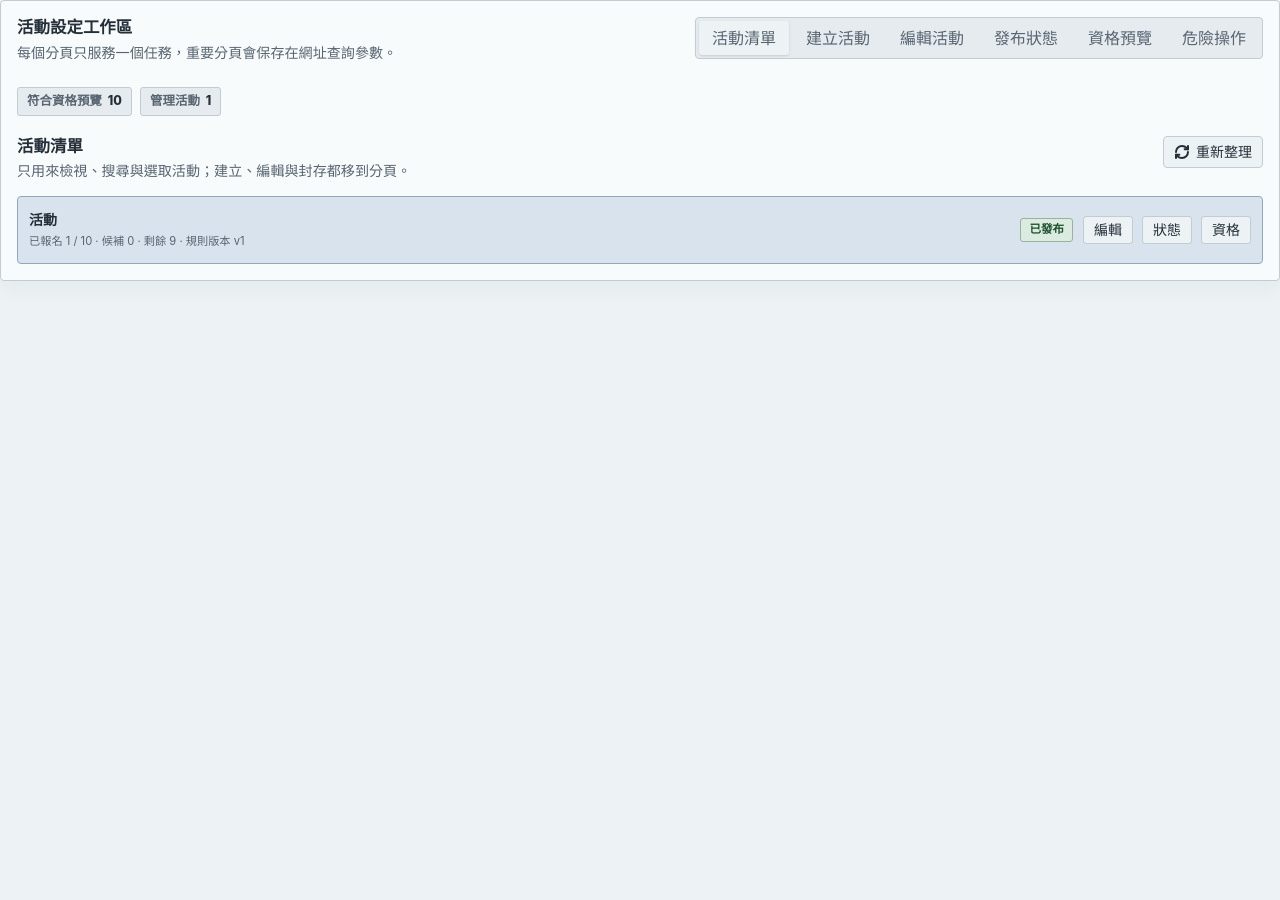
Test: AdminEventsPage CRUD tabs › updates the quick-setup template dropdown label after selection
The width and height of the screenshot is (1280, 900).
Click the tab "建立活動": coordinates (838, 38) [793,21,883,55]
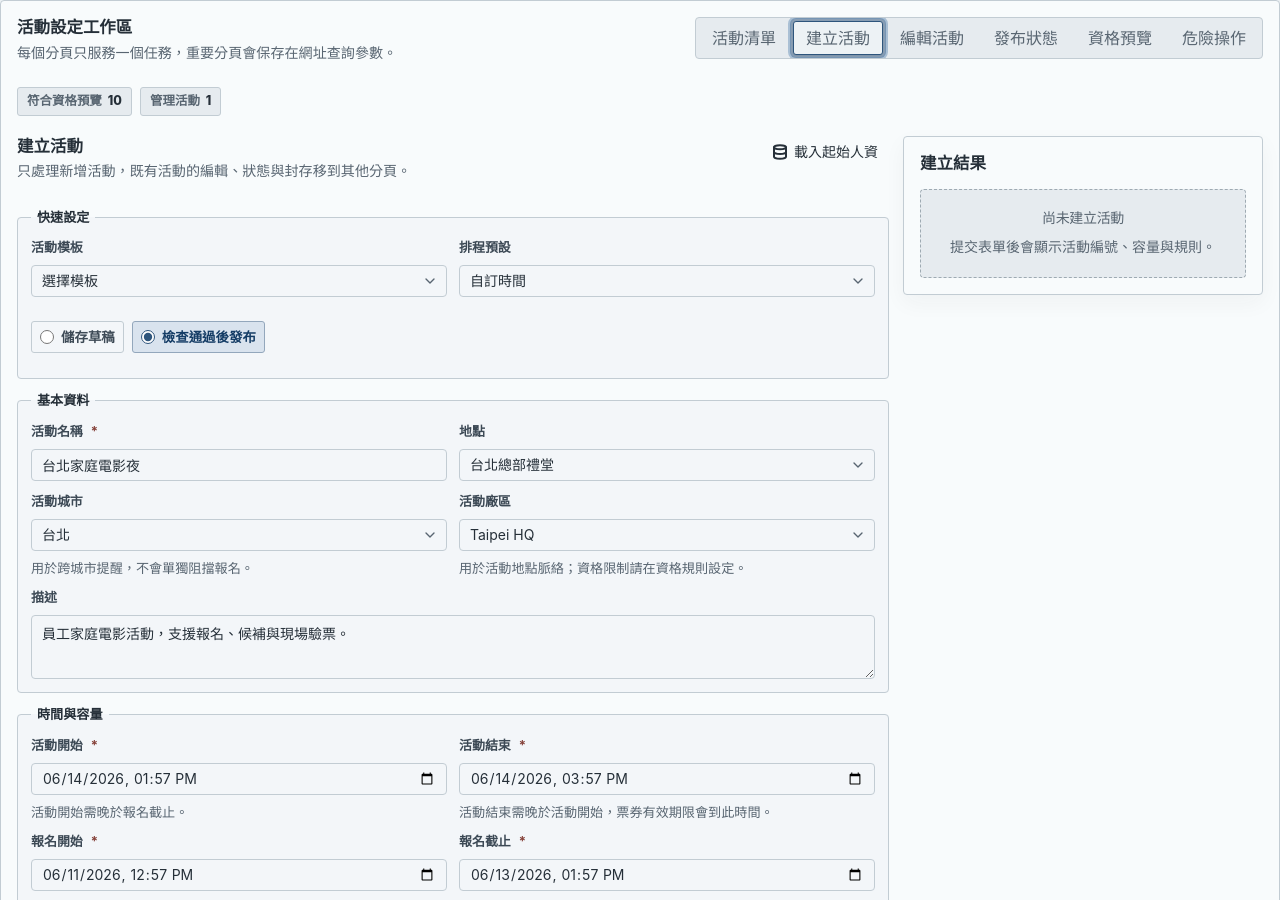
Expected: the dropdown named "活動模板" reads "選擇模板"
Click the dropdown named "活動模板": coordinates (70, 281) [31,265,447,297]
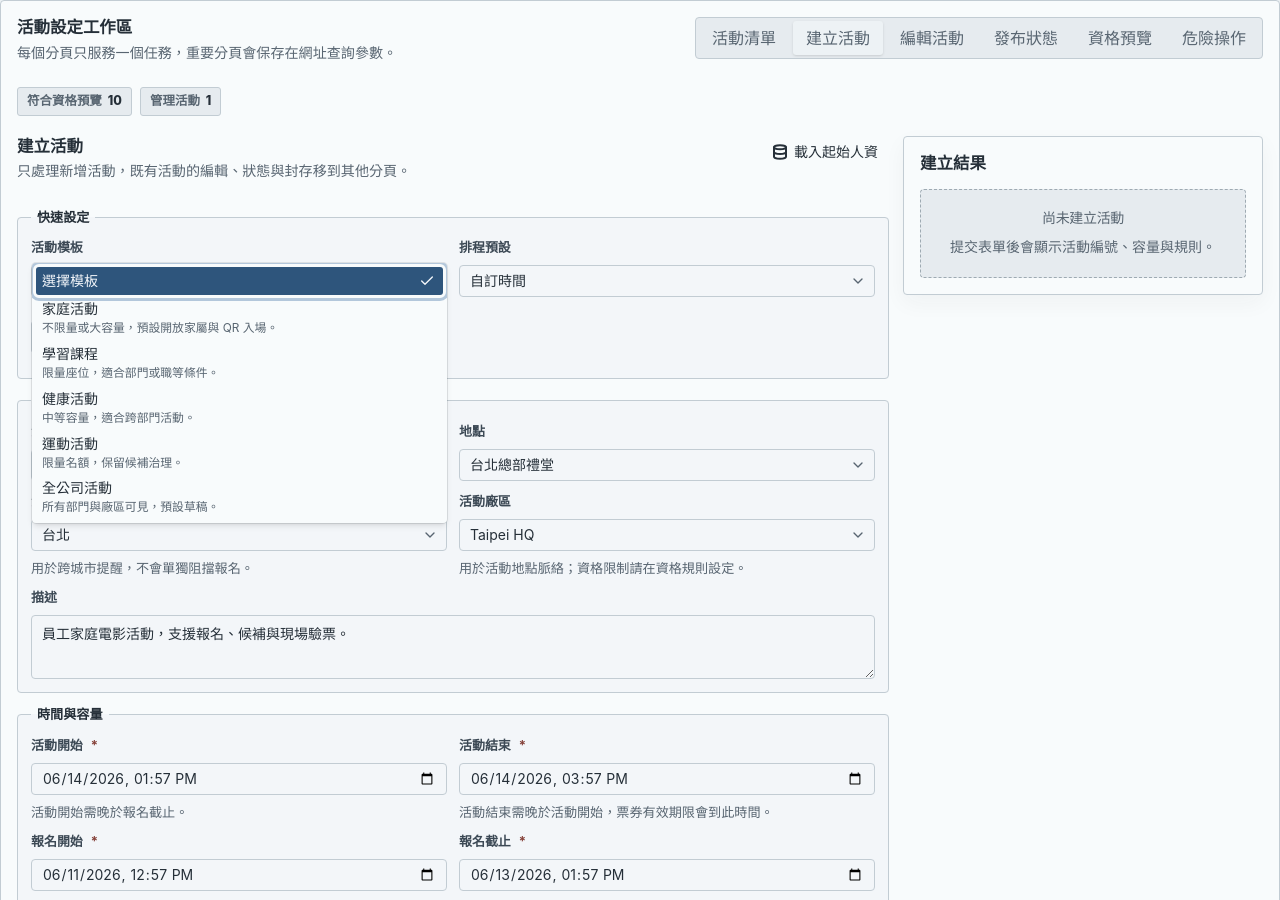
Click the option "學習課程 限量座位，適合部門或職等條件。": coordinates (70, 354) [42,345,219,380]
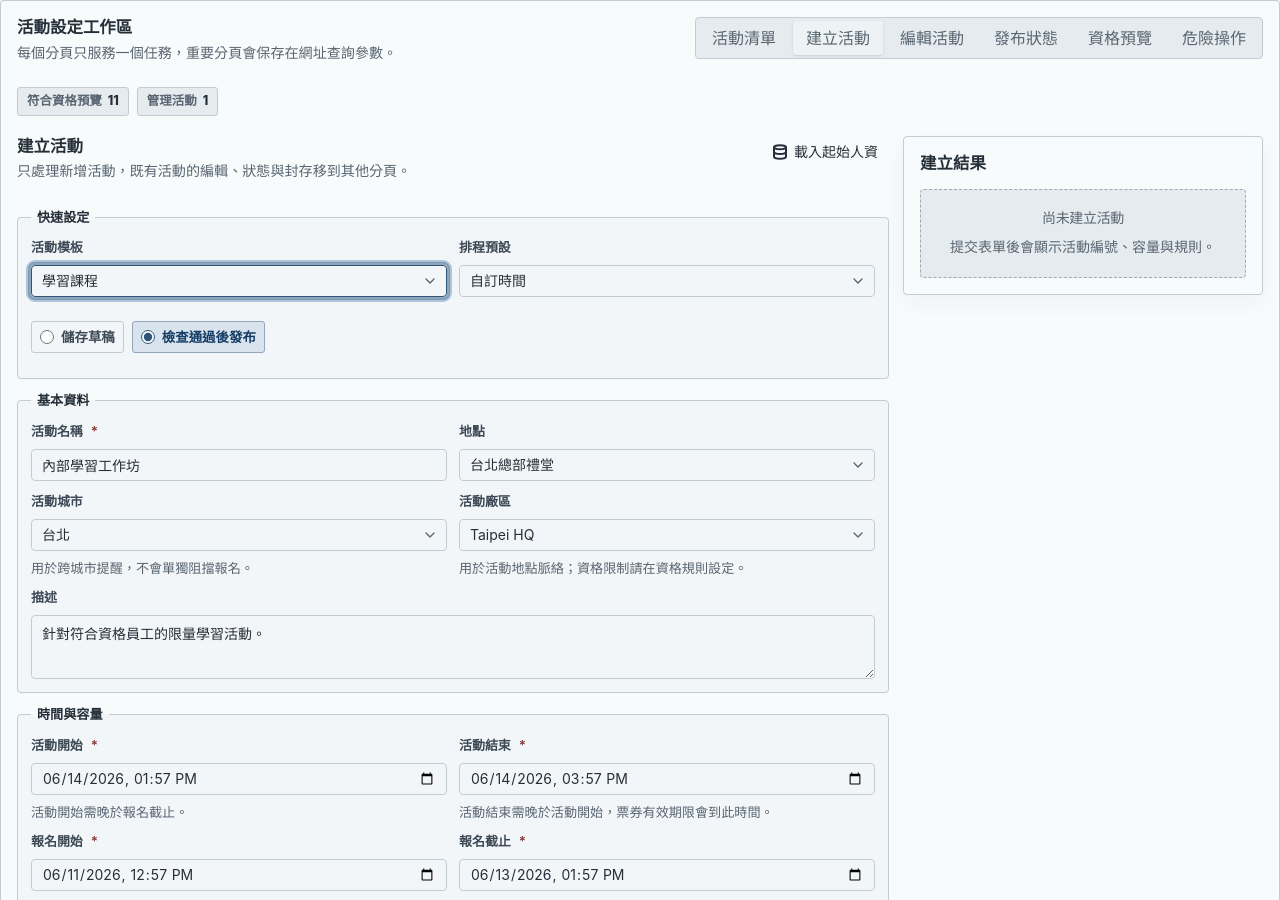
Expected: the dropdown named "活動模板" reads "學習課程", [31,265,447,297]
Expected: the field labelled "活動名稱 *" holds "內部學習工作坊", [31,449,447,481]
